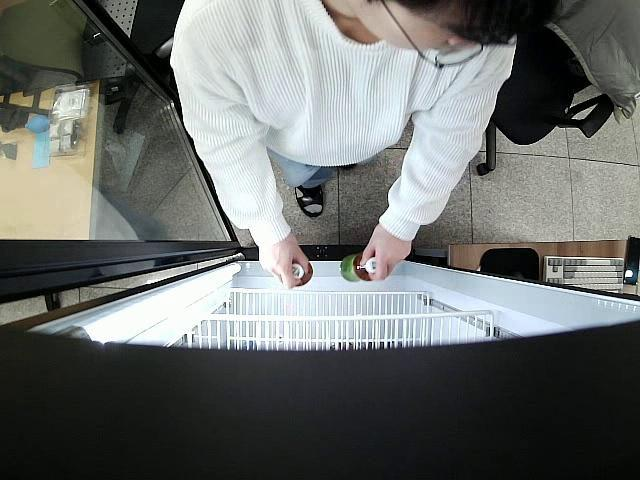19_17cha: (339, 254, 377, 285), (290, 257, 314, 290)
